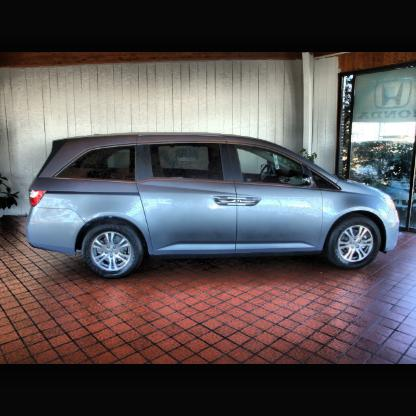Honda Odyssey Minivan 2012: (26, 133, 400, 282)
